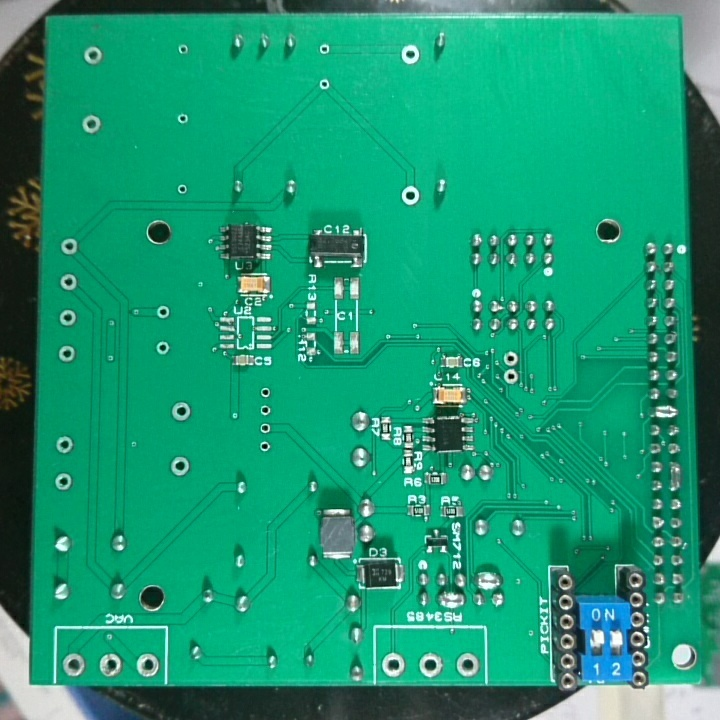F: (379, 649, 408, 680), (415, 649, 444, 680), (132, 649, 160, 680), (455, 650, 482, 680), (96, 651, 122, 680), (61, 652, 86, 678), (397, 41, 421, 68), (79, 44, 105, 68), (79, 112, 104, 136), (169, 399, 194, 423), (168, 454, 191, 479), (399, 183, 421, 209), (58, 235, 82, 258), (55, 343, 79, 366), (51, 469, 74, 492), (53, 434, 77, 456), (57, 271, 79, 294), (57, 306, 78, 329), (501, 366, 521, 386), (315, 39, 334, 59), (153, 338, 171, 359), (174, 109, 192, 129), (154, 303, 172, 322), (502, 349, 520, 368), (174, 180, 192, 198), (174, 40, 191, 58), (257, 401, 273, 420), (258, 383, 273, 403), (257, 420, 273, 437), (316, 77, 333, 92), (257, 438, 271, 455)
P: (435, 586, 468, 609), (473, 568, 504, 592), (647, 401, 681, 422), (665, 458, 683, 494)
